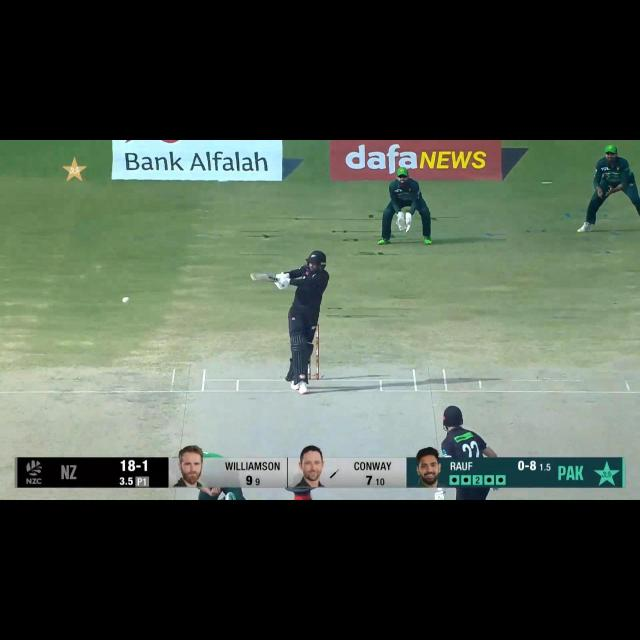bat: (250, 271, 281, 284)
toe: (248, 272, 256, 282)
